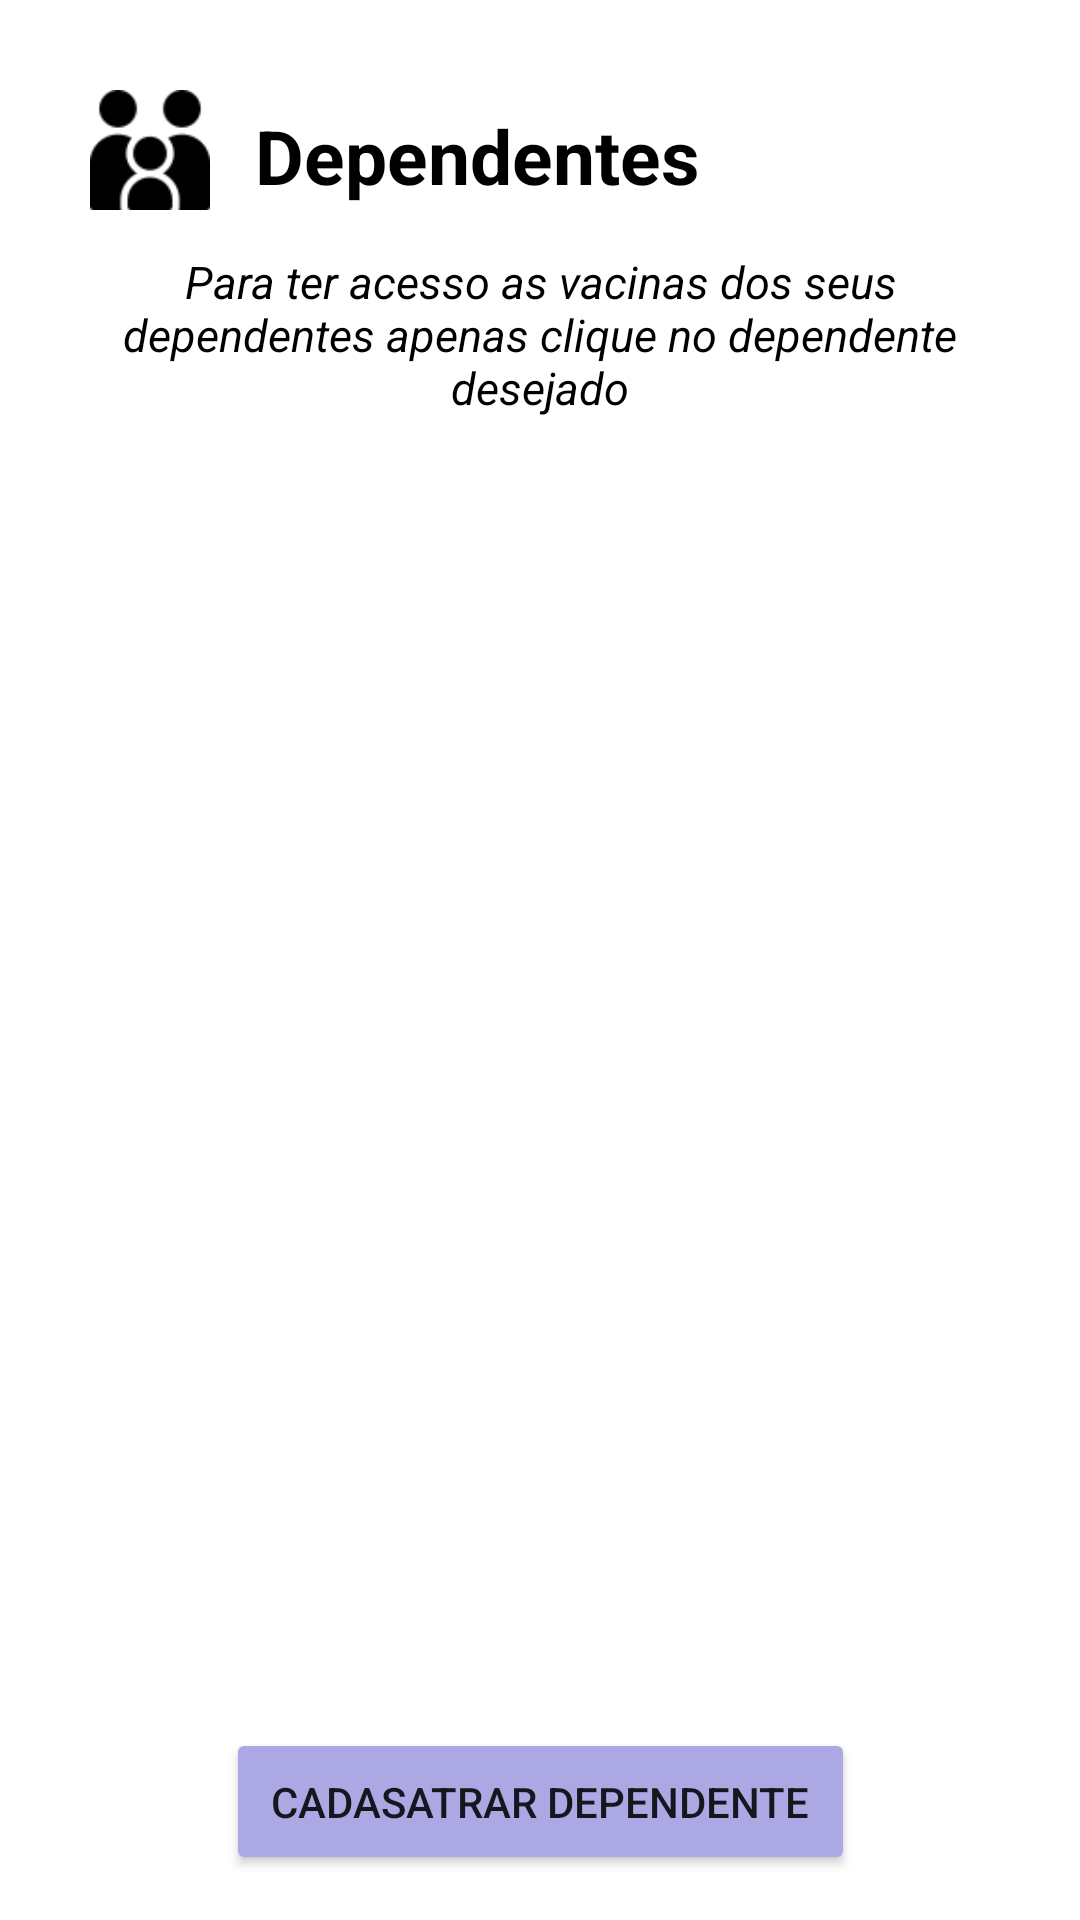

Icons on this 1080px x 1920px Android screen, each with the point to tap as point (x, y):
familia: point (150, 150)
